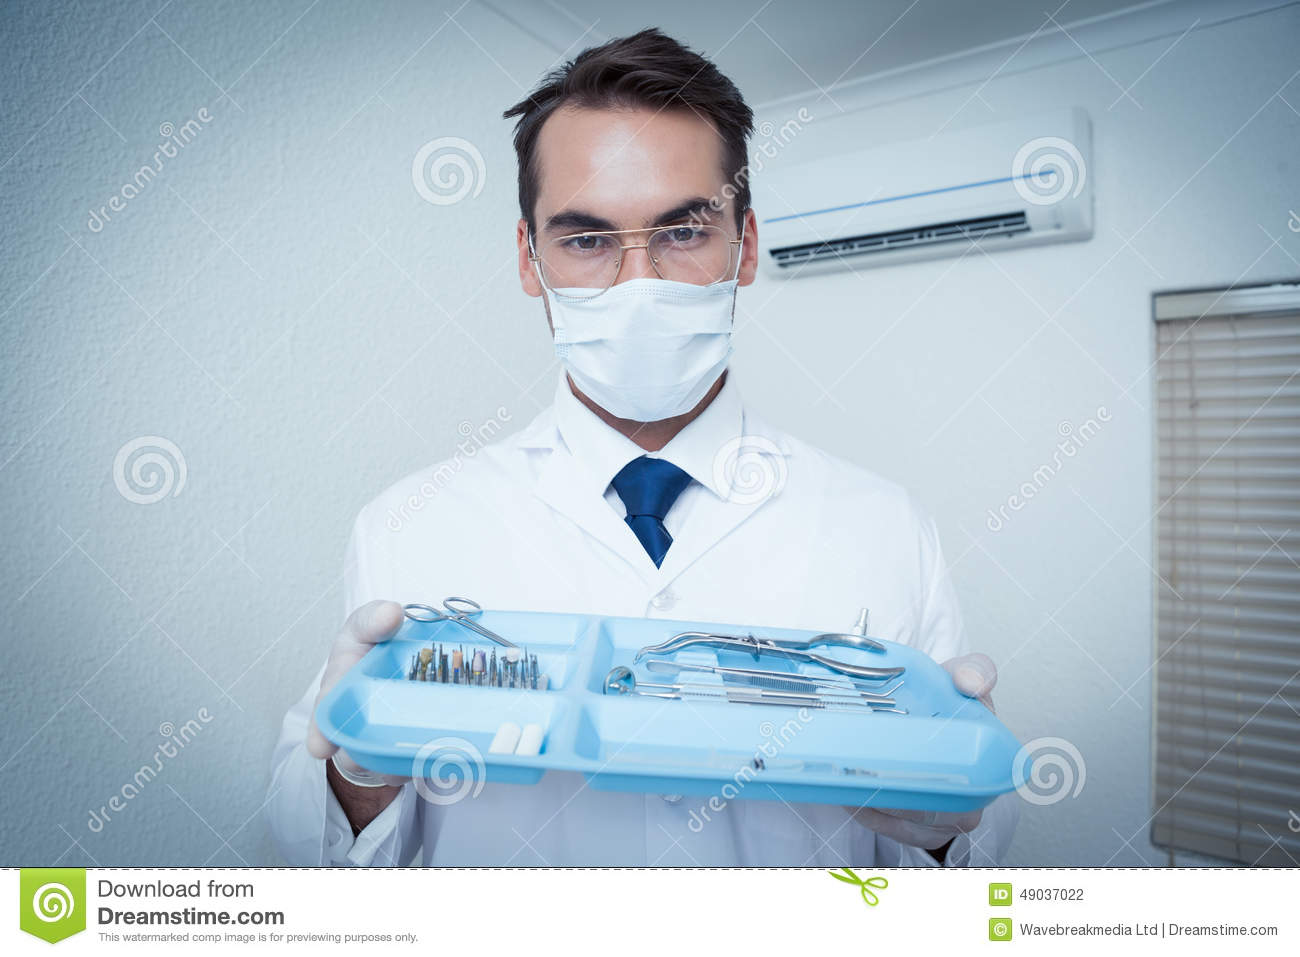mask: (544, 271, 754, 429)
